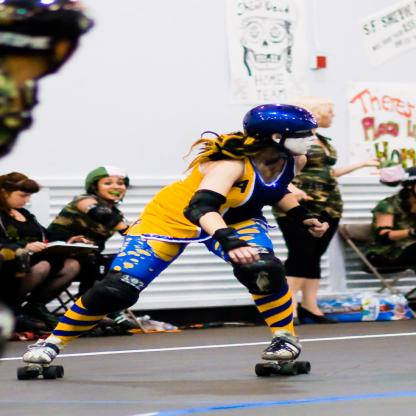Helmet: (0, 0, 99, 75), (227, 100, 329, 156), (84, 164, 129, 206), (404, 165, 416, 197)
